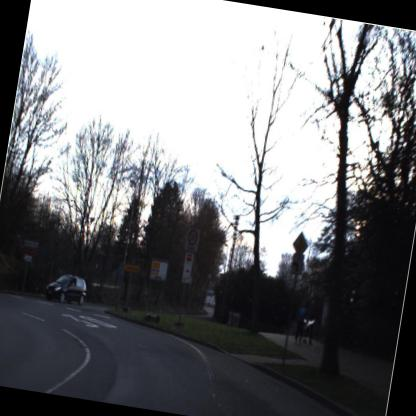other: (286, 228, 313, 262)
prohibitory: (180, 222, 202, 254)
